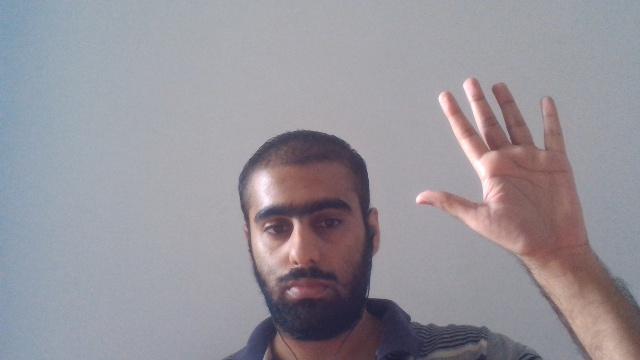paper: (413, 76, 589, 259)
